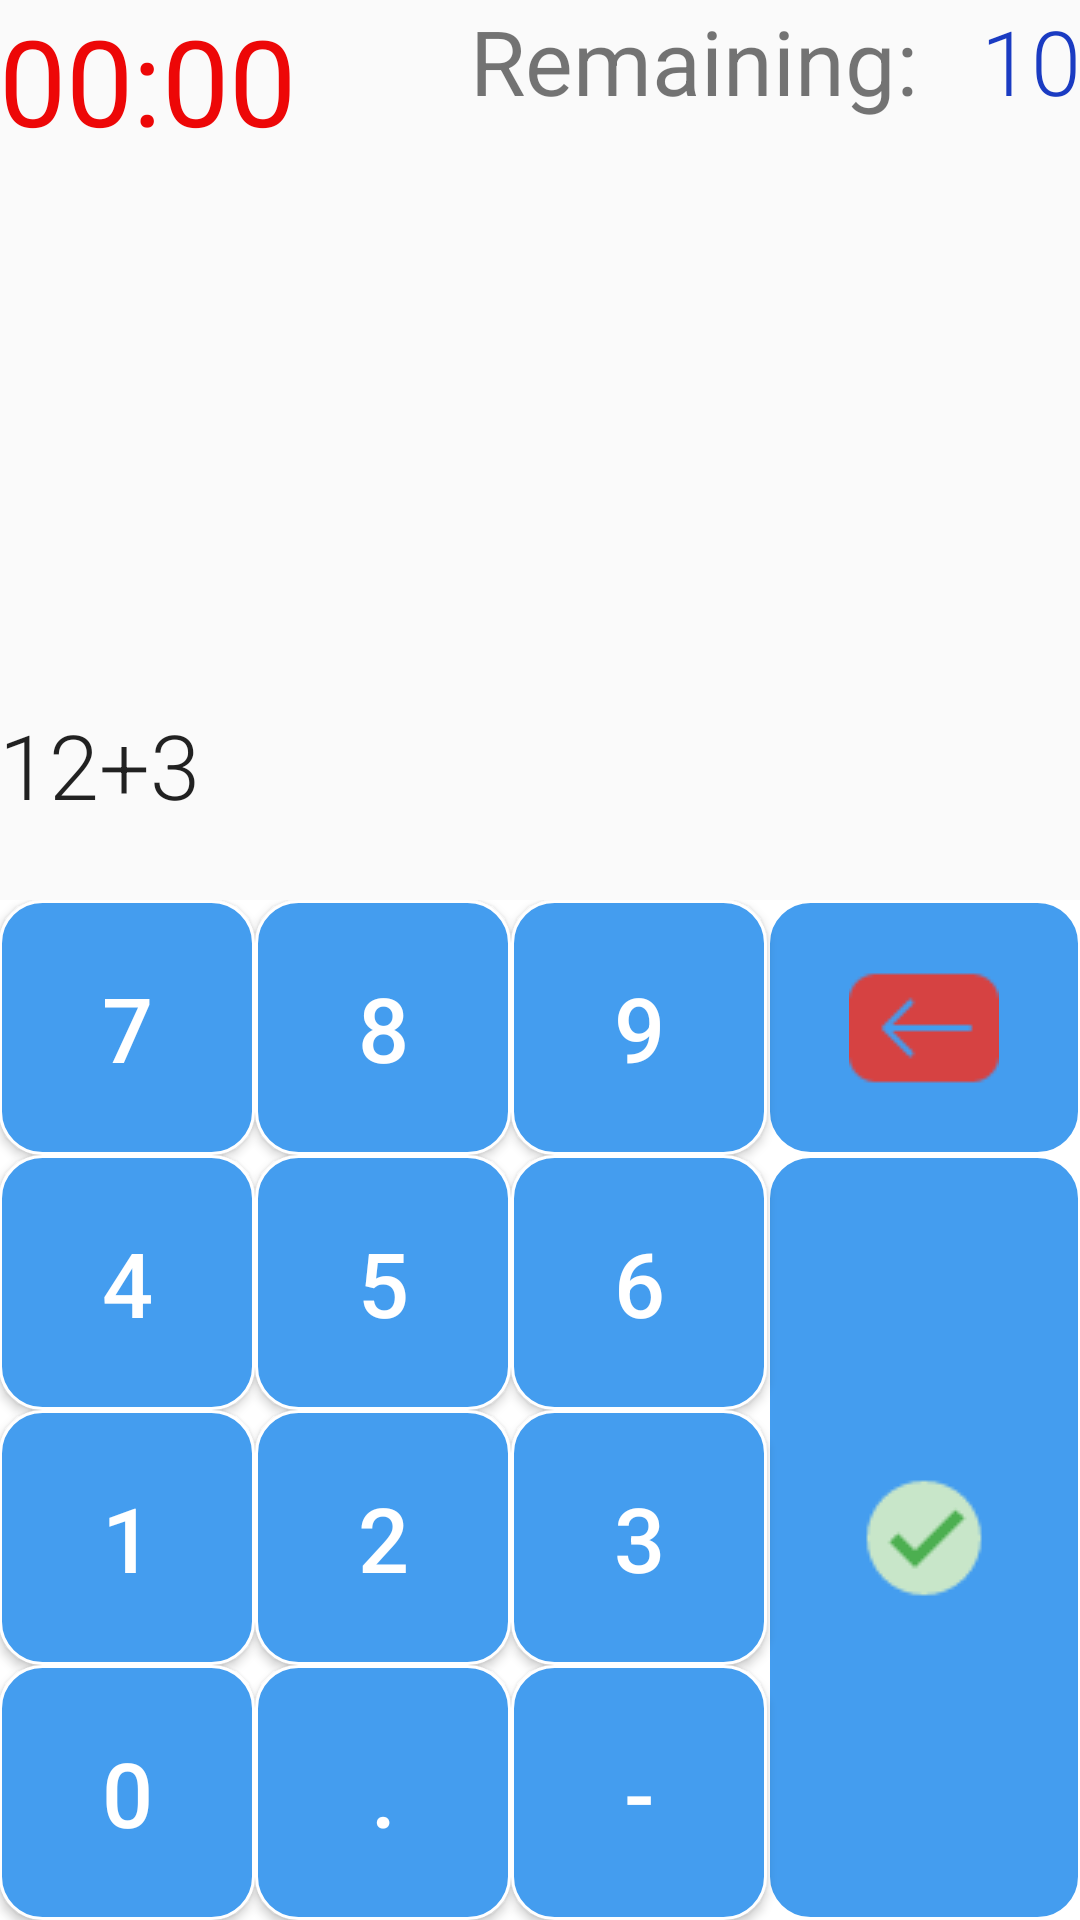

Where icons sit on this 1080px x 1920px app screen, as {"x1": x1, "y1": y1, "x2": x2, "y2": y2}:
backspace: {"x1": 770, "y1": 903, "x2": 1078, "y2": 1152}
